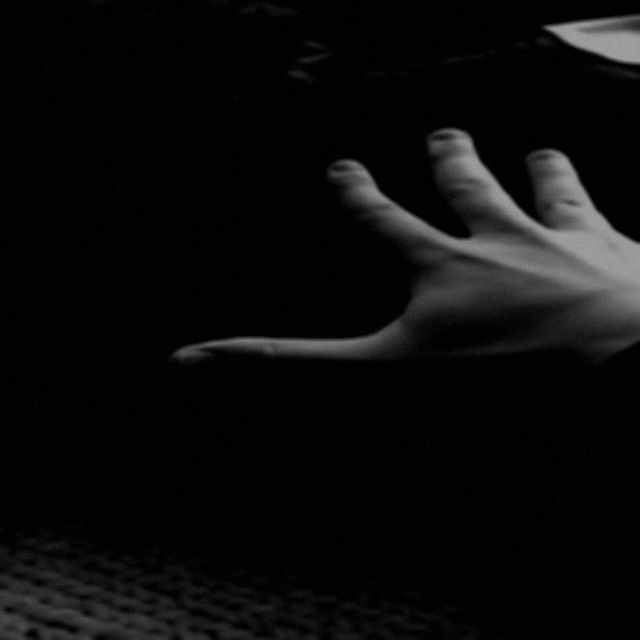Paper: (160, 125, 640, 406)
